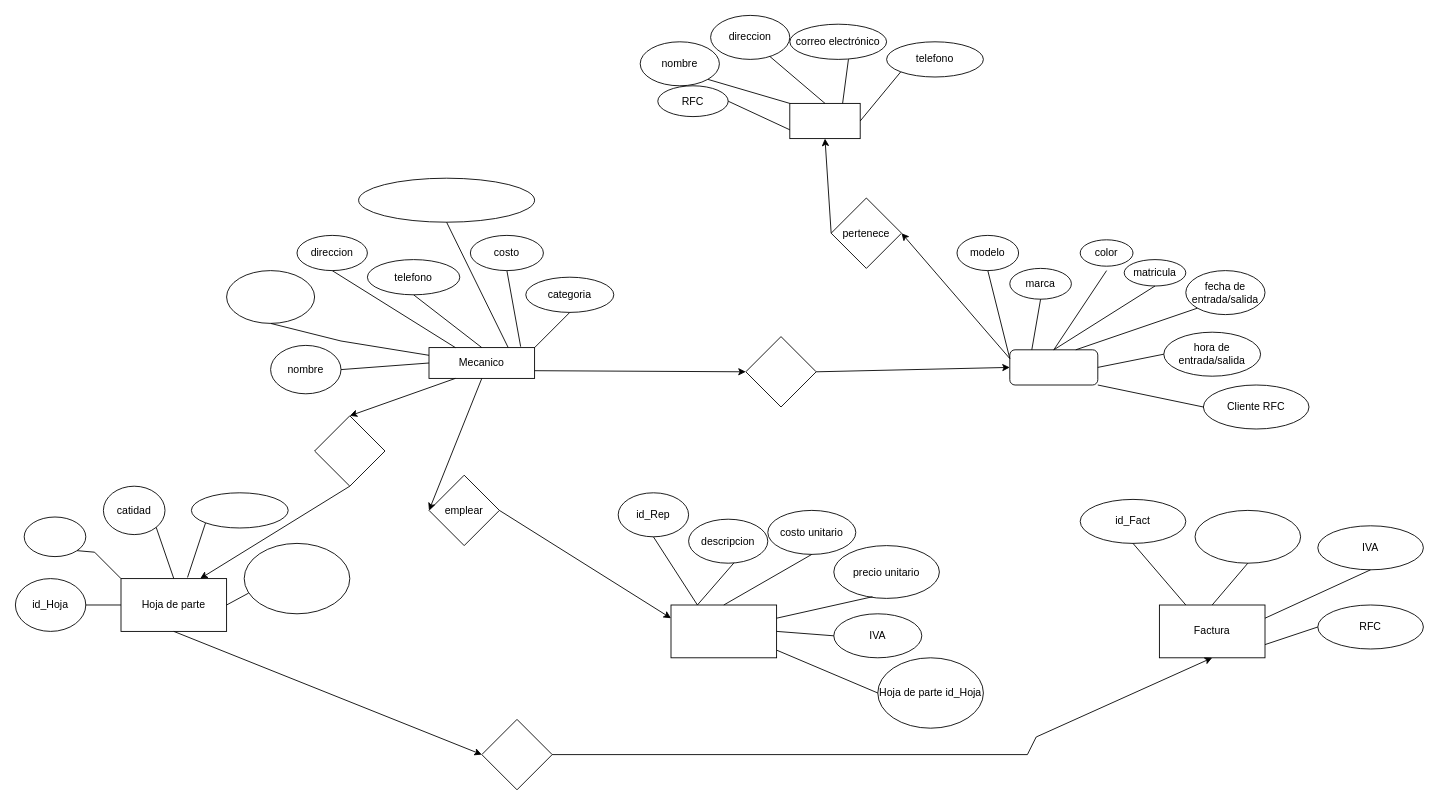
Image size: 1439x805. Some labels were removed from this diagram. The shapes that lost their labels are listed below. From the top down, each one's centre as x and y in pixels, then its label:
At (x=824, y=121): "Cliente".
At (x=446, y=199): "disponibilidad de tiempo".
At (x=270, y=296): "id_mecanico".
At (x=780, y=371): "reparar".
At (x=1053, y=367): "Auto".
At (x=349, y=450): "llevar control".
At (x=239, y=510): "reparacion".
At (x=54, y=536): "concepto".
At (x=1247, y=536): "fecha".
At (x=296, y=578): "Mecanico_idmecanico".
At (x=723, y=631): "Repuesto".
At (x=516, y=754): "registrar".
